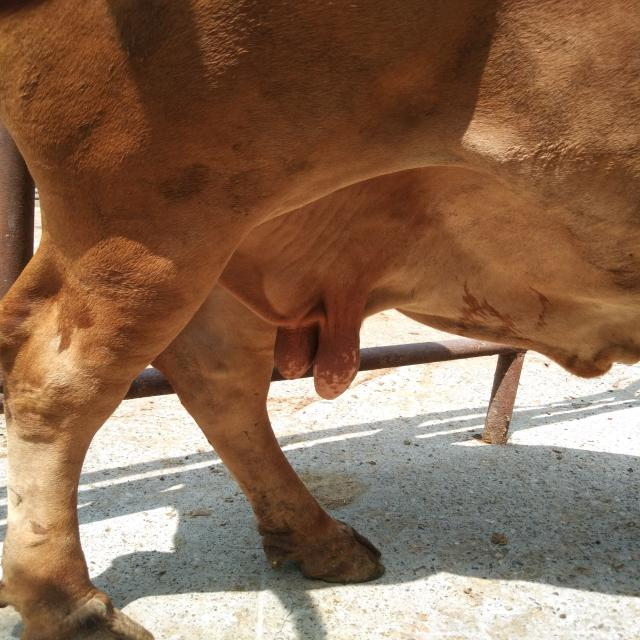Hoof: (260, 518, 386, 584), (18, 591, 155, 639)
